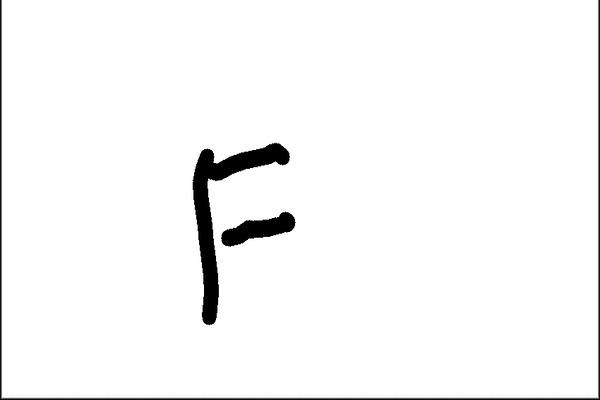F: (186, 138, 299, 327)
